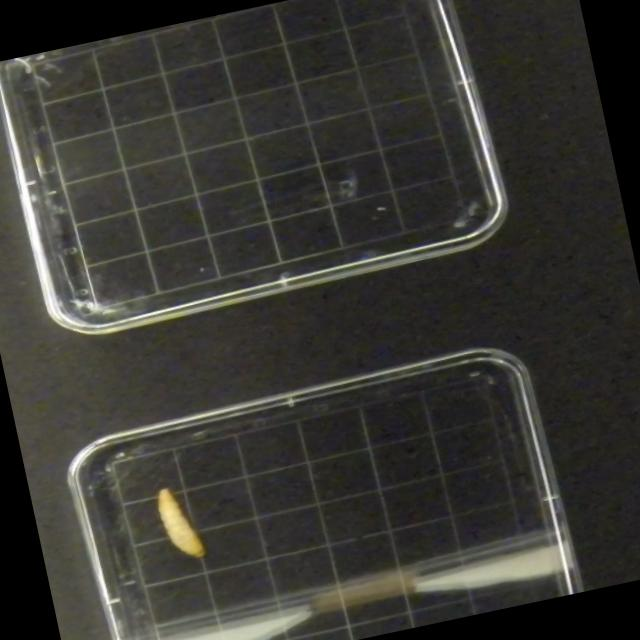larva: (148, 479, 214, 568)
